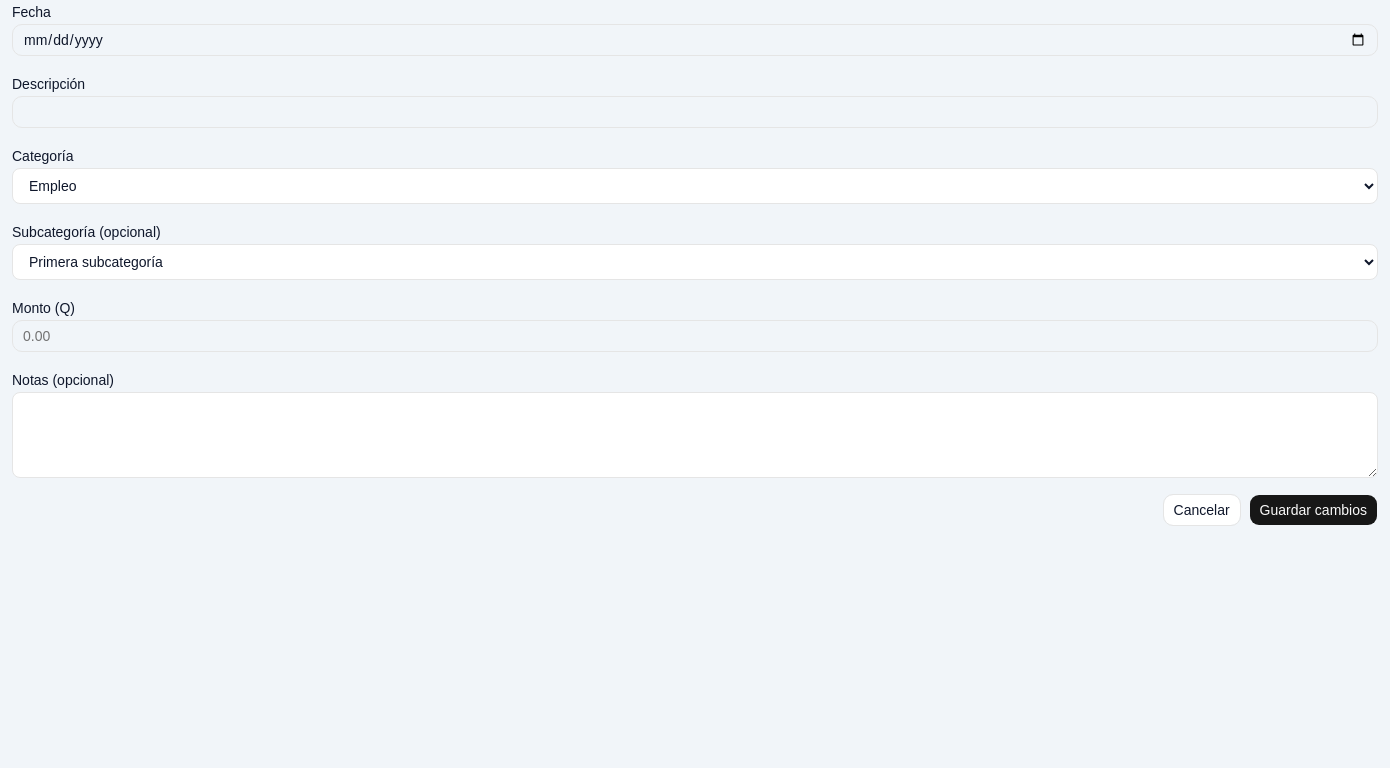
Test case: Formularios conectados a la API › limpia la subcategoría al cambiar categoría de un egreso
The width and height of the screenshot is (1390, 768).
Check: the dropdown labelled "Subcategoría (opcional)" shows "Primera subcategoría", box [12,244,1378,280]
Select "Otro" in the dropdown labelled "Categoría": (695, 186) [12,168,1378,204]
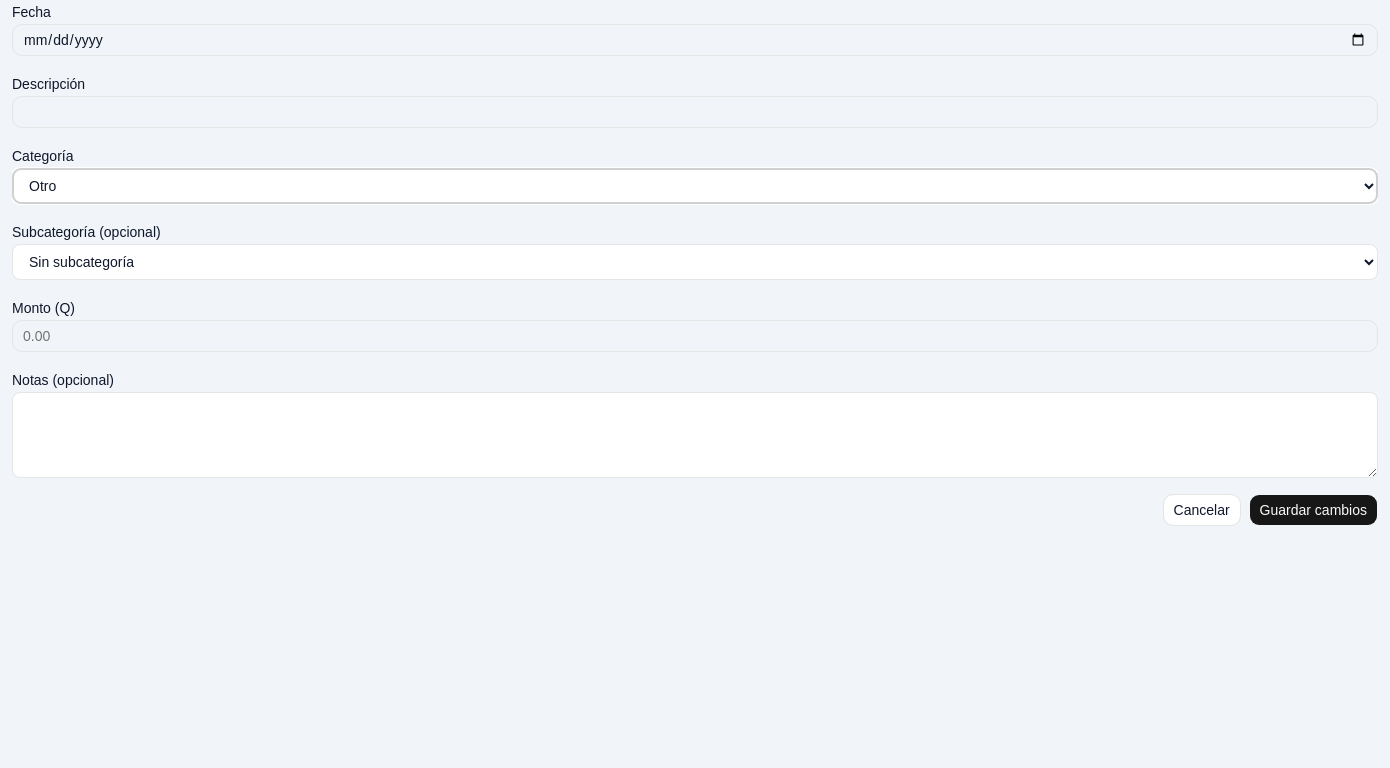
Check: the dropdown labelled "Subcategoría (opcional)" shows "Sin subcategoría", box [12,244,1378,280]
